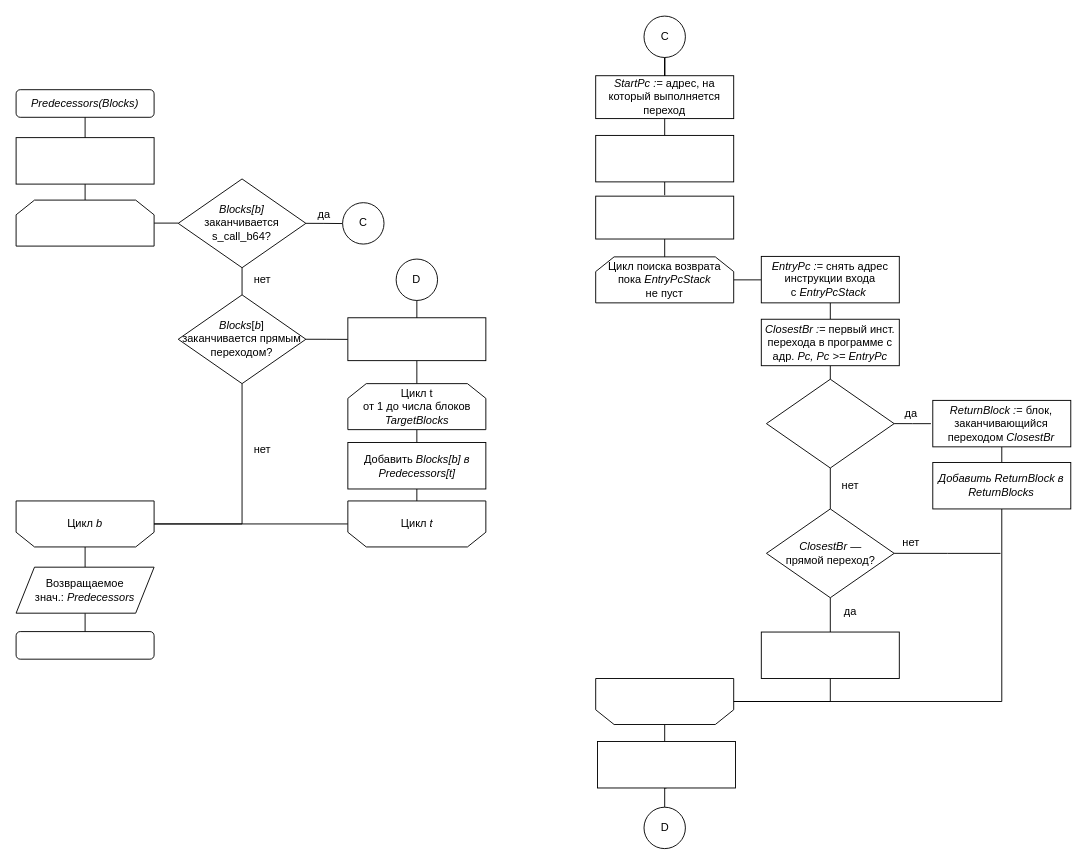
This 1087x865 diagram has some shape labels left out. The box of each missing label's shape, as (x1, y1, x2, y2) in pixels:
ClosestBr — косвенный переход по адресу в RetGprs ?: (766, 378, 894, 468)
EntryPcStack := {StartPc} ReturnBlocks := ∅: (595, 195, 734, 239)
Predecessors := ∅: (15, 137, 154, 184)
RetGprs := регистры, в которые сохраняется счетчик команд: (595, 135, 734, 182)
TargetBlocks := блоки, на которые выполняется переход: (347, 317, 486, 361)
Выход: (15, 631, 154, 659)
Добавить ReturnBlocks в Predecessors[b+1]: (597, 741, 736, 788)
Положить адреса перехода из ClosestBr на EntryPcStack: (760, 631, 899, 678)
Цикл b от 1 до числа базовых блоков: (15, 199, 154, 246)
Цикл поиска возврата: (595, 678, 734, 724)
